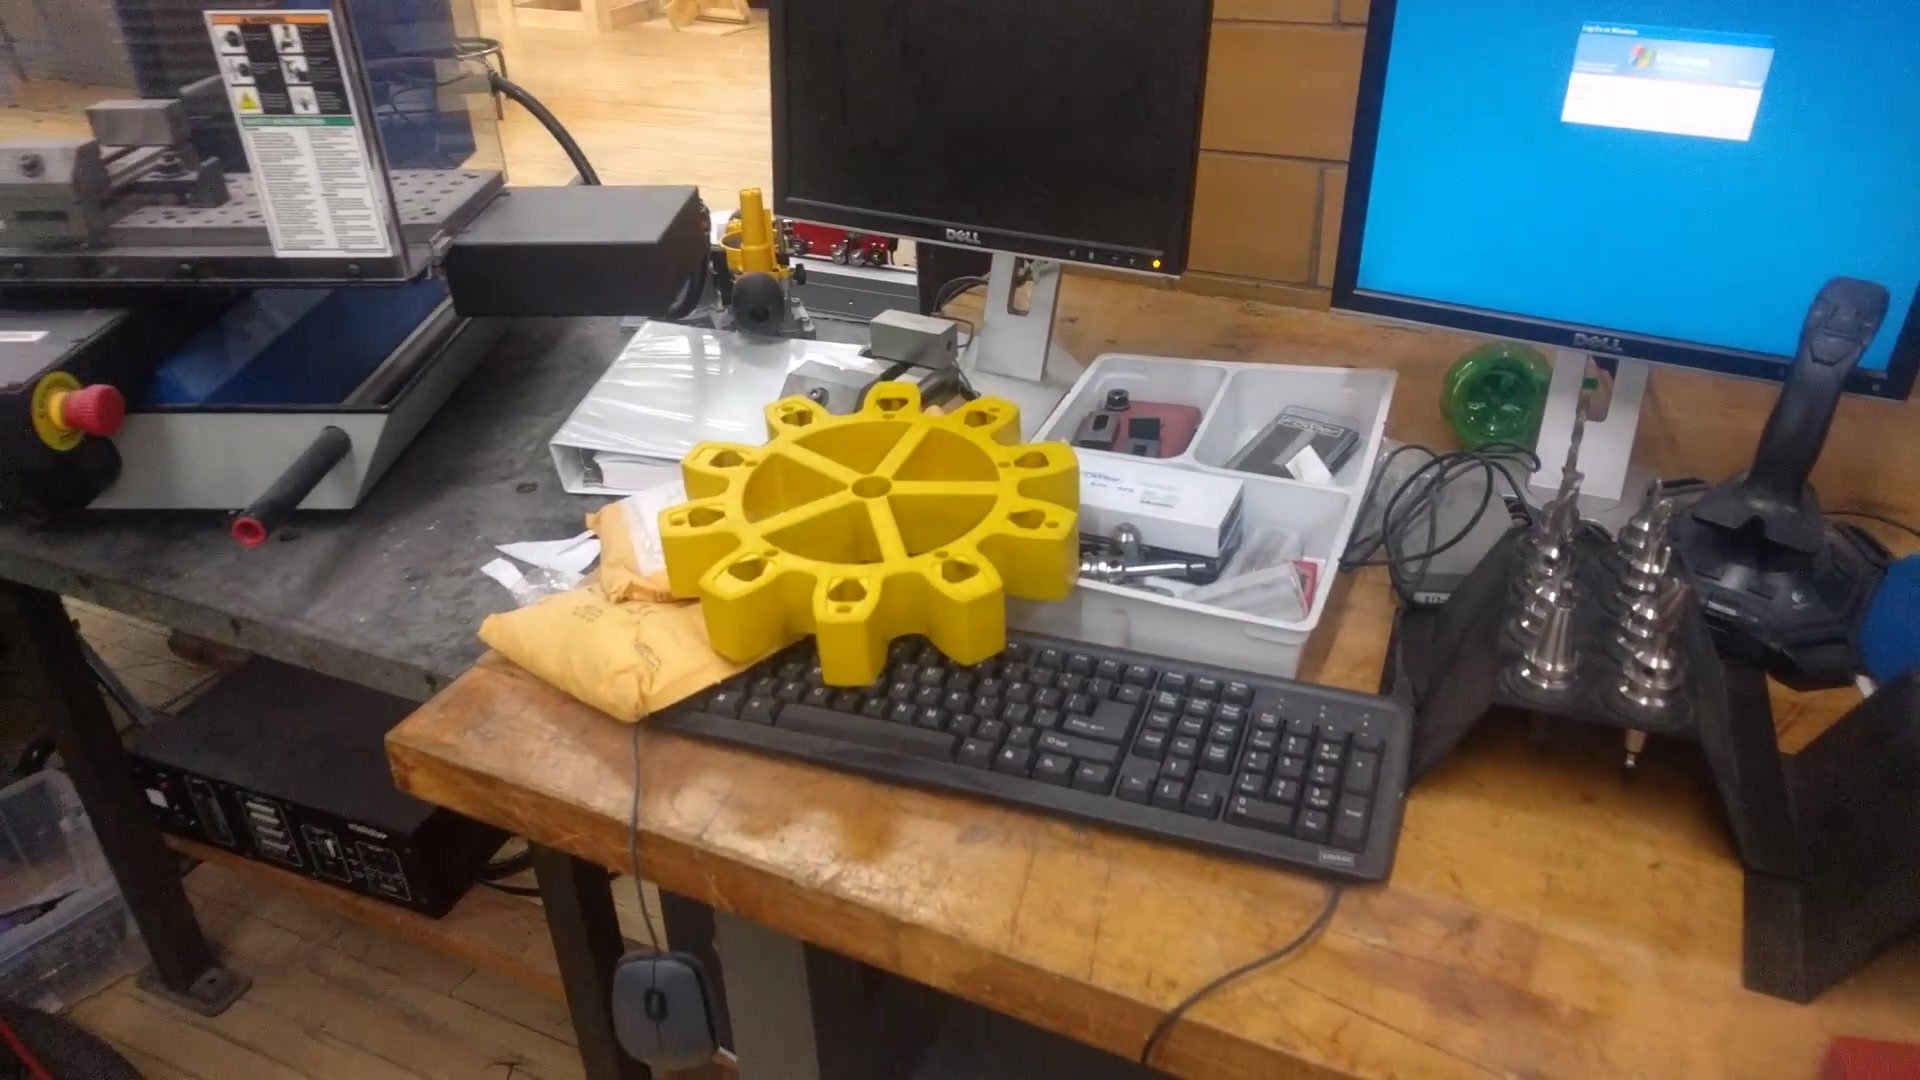gear: (659, 372, 1108, 712)
